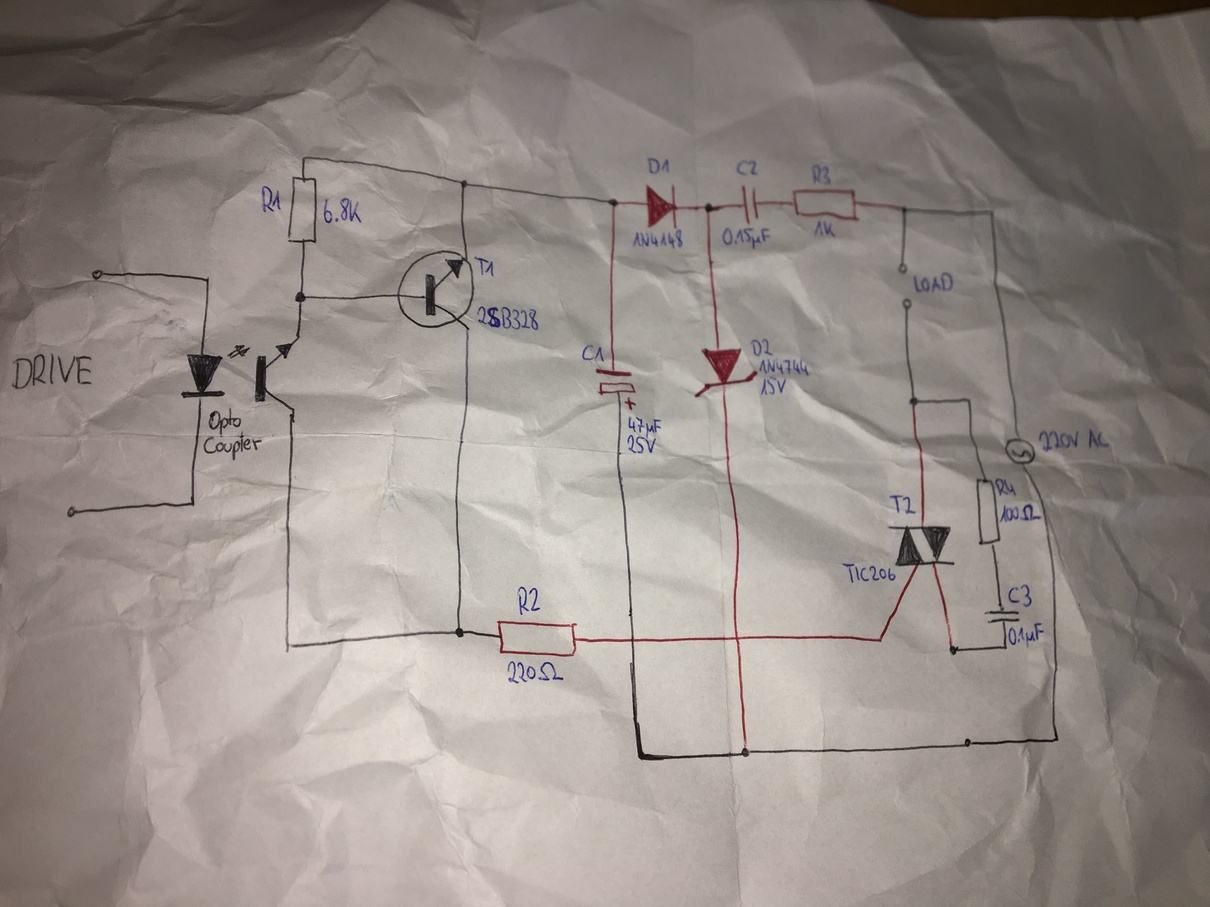capacitor.polarized: (593, 366, 638, 412)
capacitor.unpolarized: (738, 182, 764, 225), (982, 608, 1023, 625)
crossover: (732, 633, 743, 643), (628, 635, 638, 644)
diode: (694, 346, 758, 399), (644, 183, 679, 230)
junction: (738, 739, 755, 759), (293, 289, 308, 305), (282, 640, 297, 654), (947, 644, 961, 657), (702, 201, 715, 215), (606, 196, 620, 209), (635, 750, 647, 764), (453, 626, 465, 639), (1050, 733, 1062, 745), (908, 396, 920, 407), (187, 498, 198, 509), (202, 274, 213, 285), (459, 178, 469, 190), (875, 634, 885, 644), (964, 395, 974, 405), (899, 204, 909, 214), (987, 208, 996, 217), (300, 154, 307, 162), (1001, 644, 1009, 651)
optocoupler: (178, 335, 301, 415)
resistor: (495, 617, 580, 659), (789, 186, 861, 224), (285, 174, 319, 246), (973, 476, 1004, 549)
terminal: (895, 260, 910, 276), (89, 267, 105, 282), (899, 296, 914, 311), (65, 504, 80, 519)
text: (10, 350, 94, 392), (201, 431, 263, 463), (1037, 427, 1112, 453), (476, 304, 541, 332), (505, 659, 567, 686), (720, 225, 773, 251), (841, 561, 897, 584), (321, 196, 364, 225), (632, 228, 685, 250), (912, 270, 956, 296), (206, 407, 243, 436), (1008, 621, 1045, 649), (758, 357, 811, 376), (999, 503, 1042, 524), (514, 585, 543, 616), (626, 414, 662, 438), (1007, 582, 1034, 609), (887, 493, 918, 516), (625, 434, 658, 455), (260, 184, 282, 214), (758, 375, 788, 397), (809, 163, 833, 187), (811, 219, 838, 240), (580, 343, 607, 364), (734, 157, 761, 178), (473, 255, 496, 278), (748, 337, 774, 357), (994, 477, 1018, 498), (646, 156, 672, 175)
transistor: (396, 248, 475, 331)
triac: (886, 523, 959, 575)
voltage.dc_ac: (1004, 437, 1037, 466)
